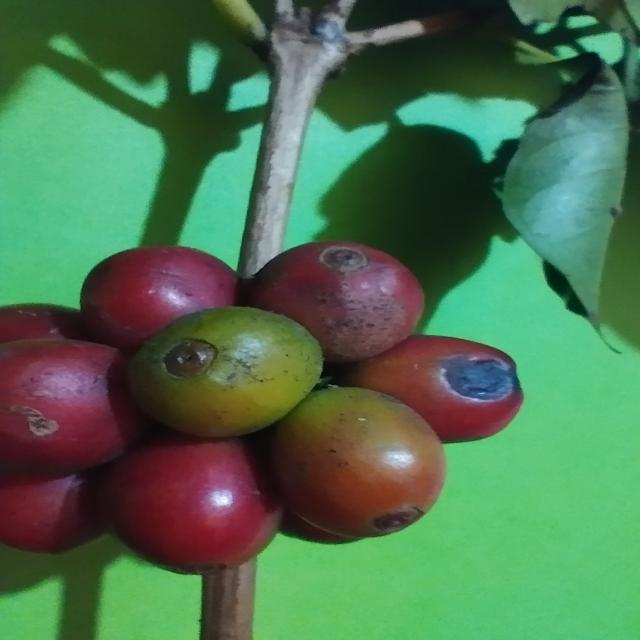Danado: (326, 336, 524, 448)
Sano: (258, 379, 447, 546), (126, 307, 326, 443), (242, 240, 426, 369), (109, 441, 282, 572), (0, 332, 140, 492), (75, 246, 240, 355)
